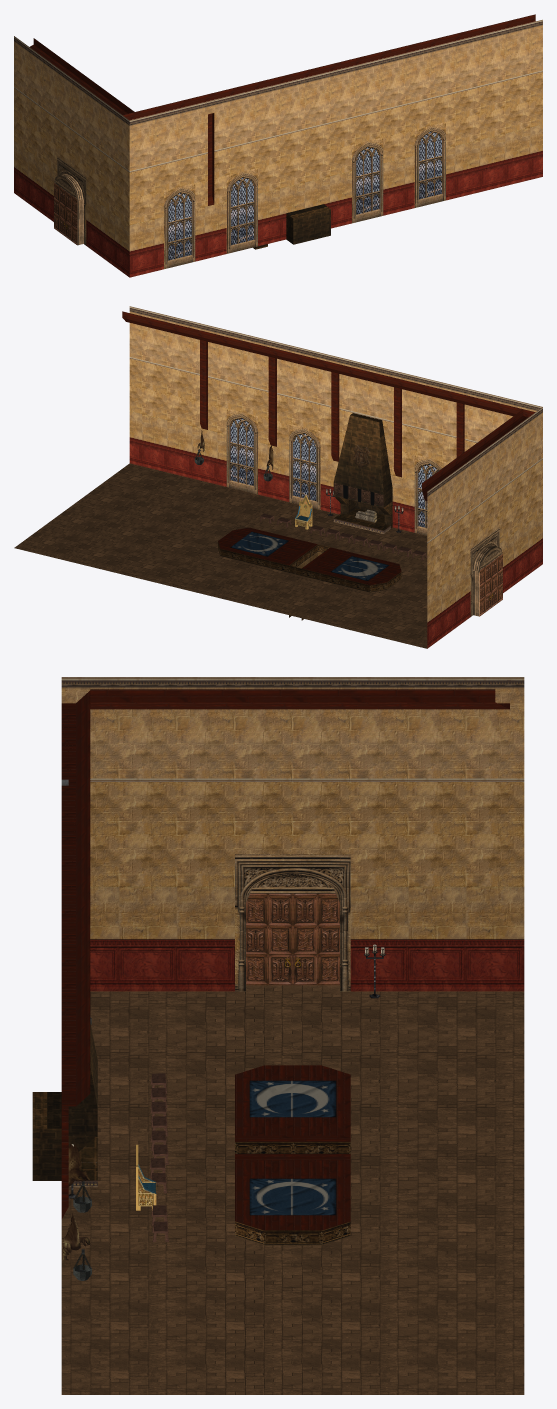
File: BattleGround.fbx
3 views of the same model, one above another, from view 1: azimuth 30°, elevation 25°; view 2: azimuth 150°, elevation 25°; view 3: azimuth 270°, elevation 25° (orthographic). The views are drawn at different scales.
Parts seen in each view (by area): view 1: Escenario_Batalla; view 2: Escenario_Batalla; view 3: Escenario_Batalla.
Boxes of the visible parts, left/top/right/bottom form: Escenario_Batalla: left=14, top=14, right=542, bottom=277; Escenario_Batalla: left=14, top=306, right=542, bottom=648; Escenario_Batalla: left=32, top=677, right=524, bottom=1394.
Bounding box in the file's own units: 2144 × 988 × 1088.
